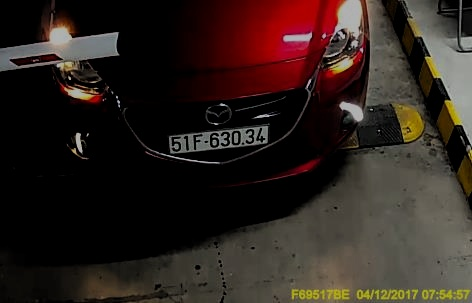plate: (164, 124, 273, 154)
